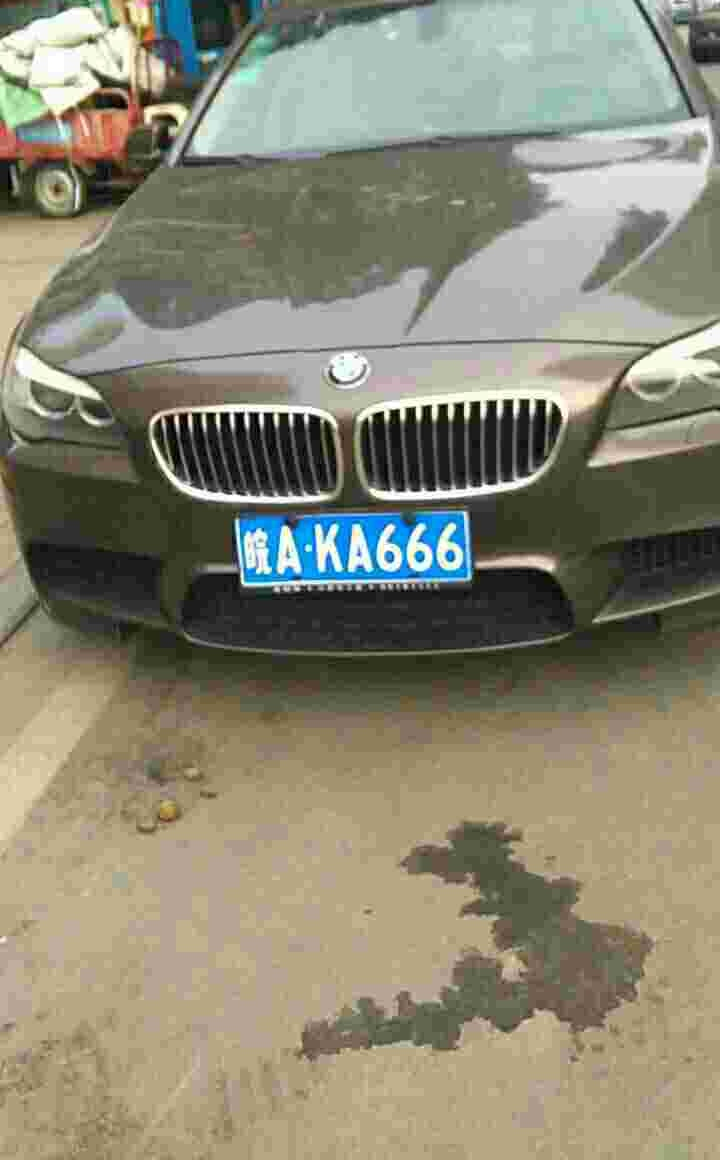license_plate: (243, 523, 482, 585)
